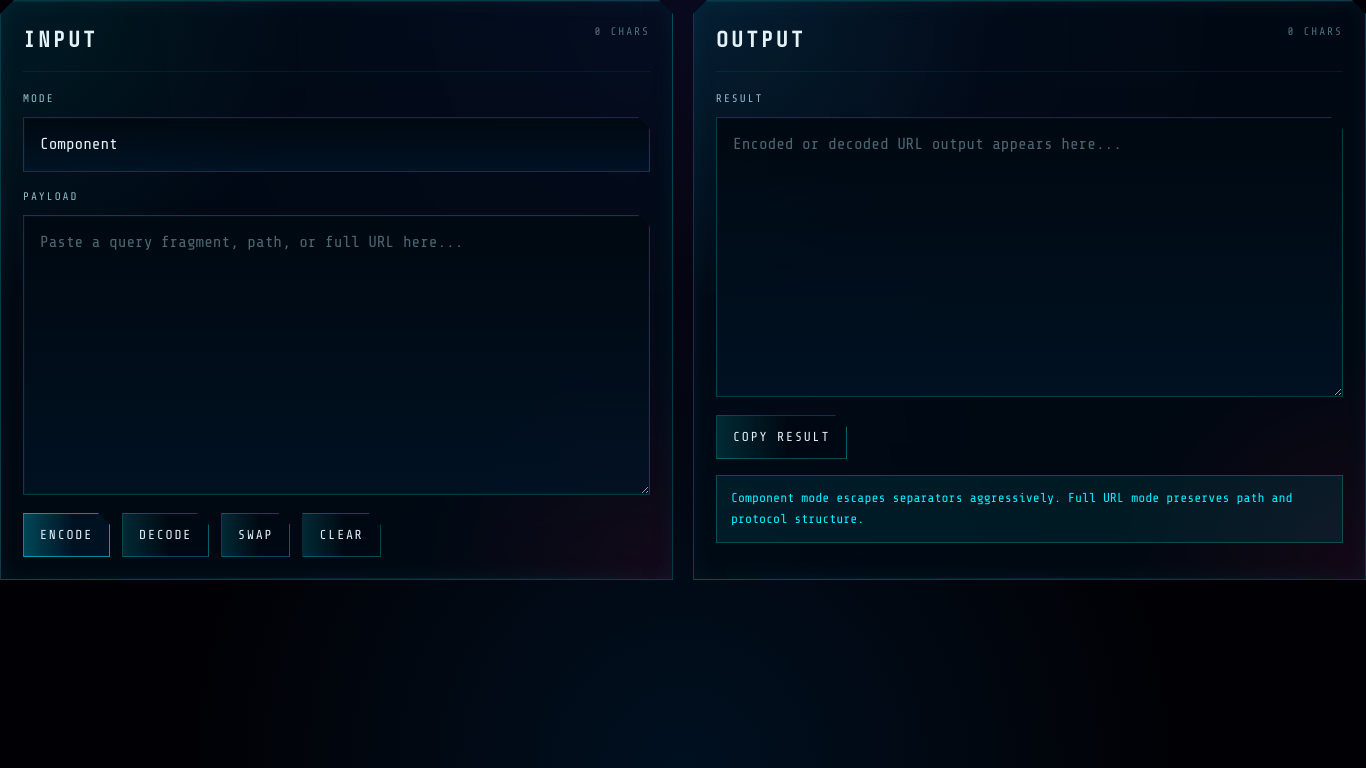
Test case: encoding and text tools › encodes URL payloads in both component and full-url mode
Type "a b" into the text box labelled "Payload".
click(336, 355); type("a b")  # box x1=23 y1=215 x2=650 y2=495
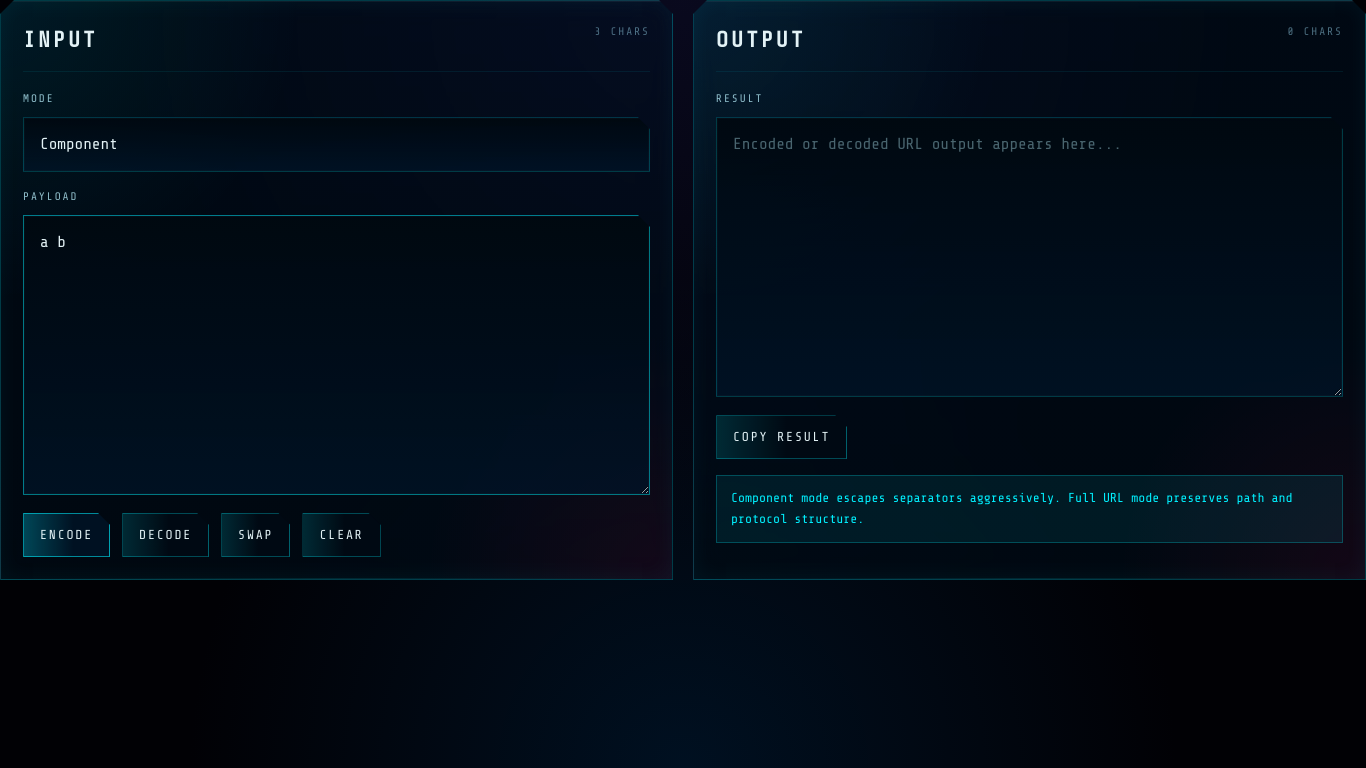
Click the button "Encode".
click(66, 535)  # box x1=23 y1=513 x2=110 y2=557
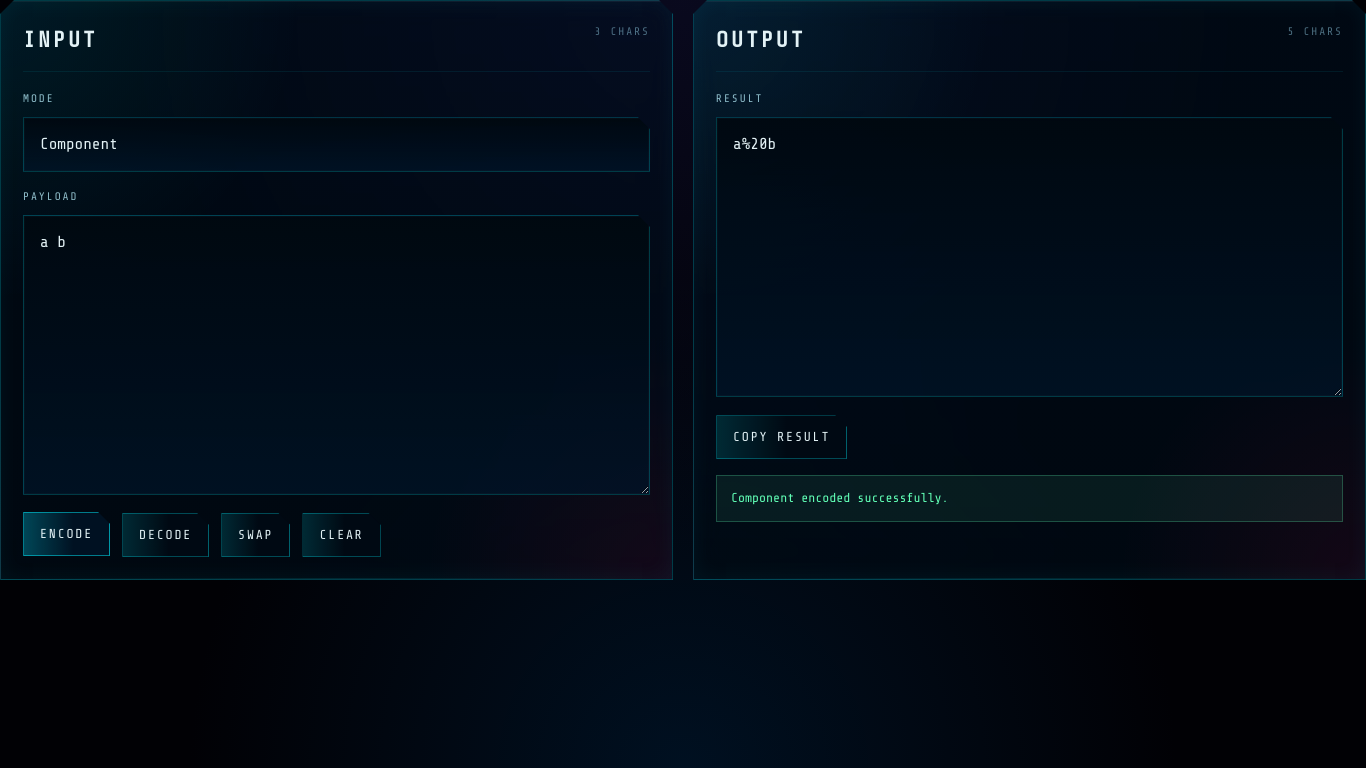
Now the text box labelled "Result" holds "a%20b", box x1=716 y1=117 x2=1343 y2=397
Select "Full URL" in the dropdown labelled "Mode" at (336, 144), box x1=23 y1=117 x2=650 y2=172
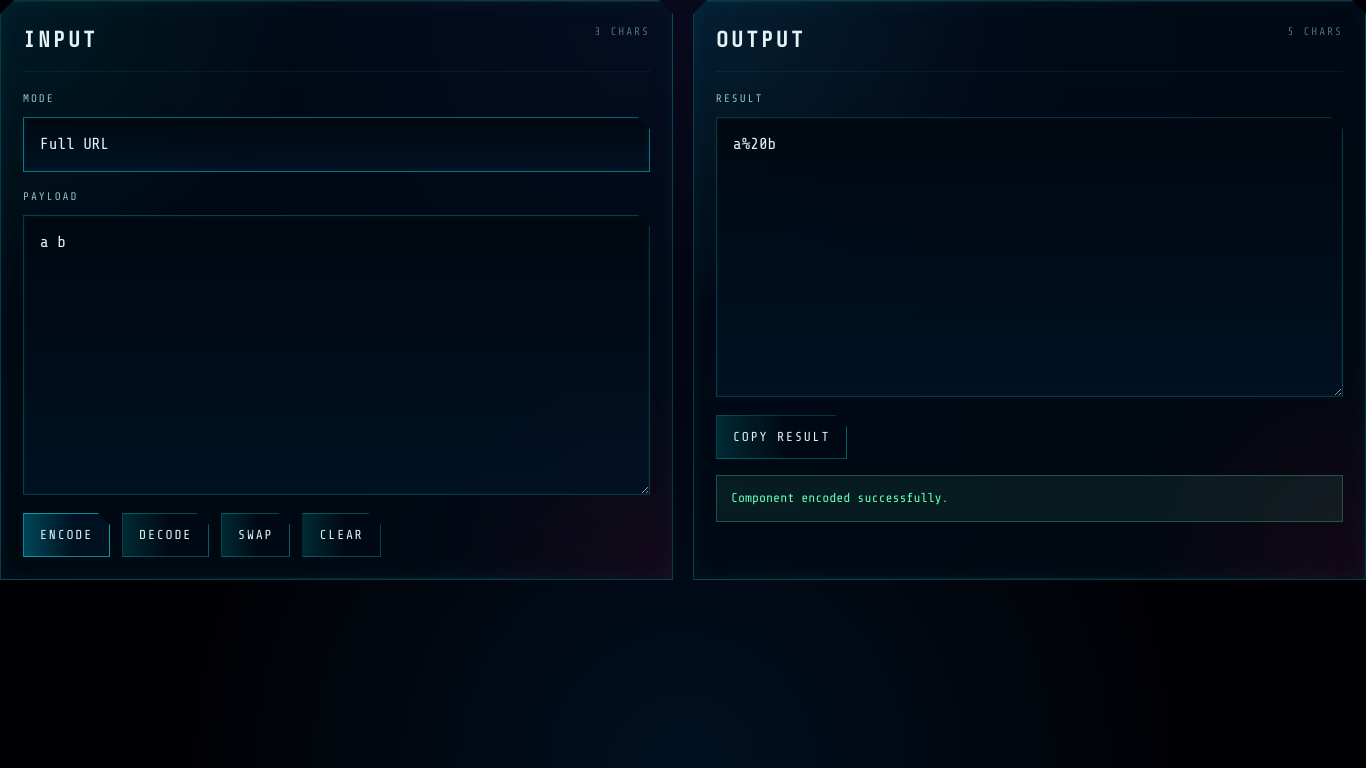
Replace the text in the text box labelled "Payload" with "https://a.com/a b?x=1&y=2" at (336, 355), box x1=23 y1=215 x2=650 y2=495
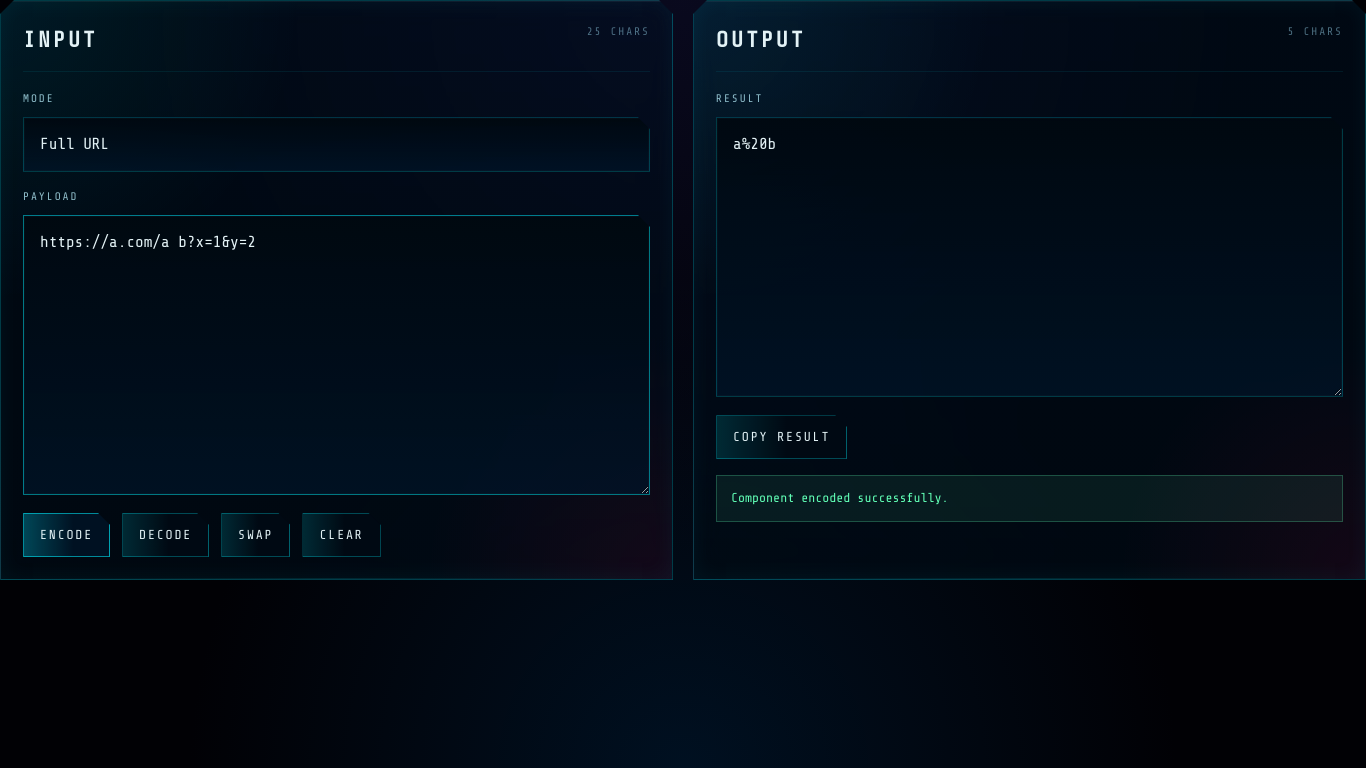
Click the button "Encode".
click(66, 535)  # box x1=23 y1=513 x2=110 y2=557
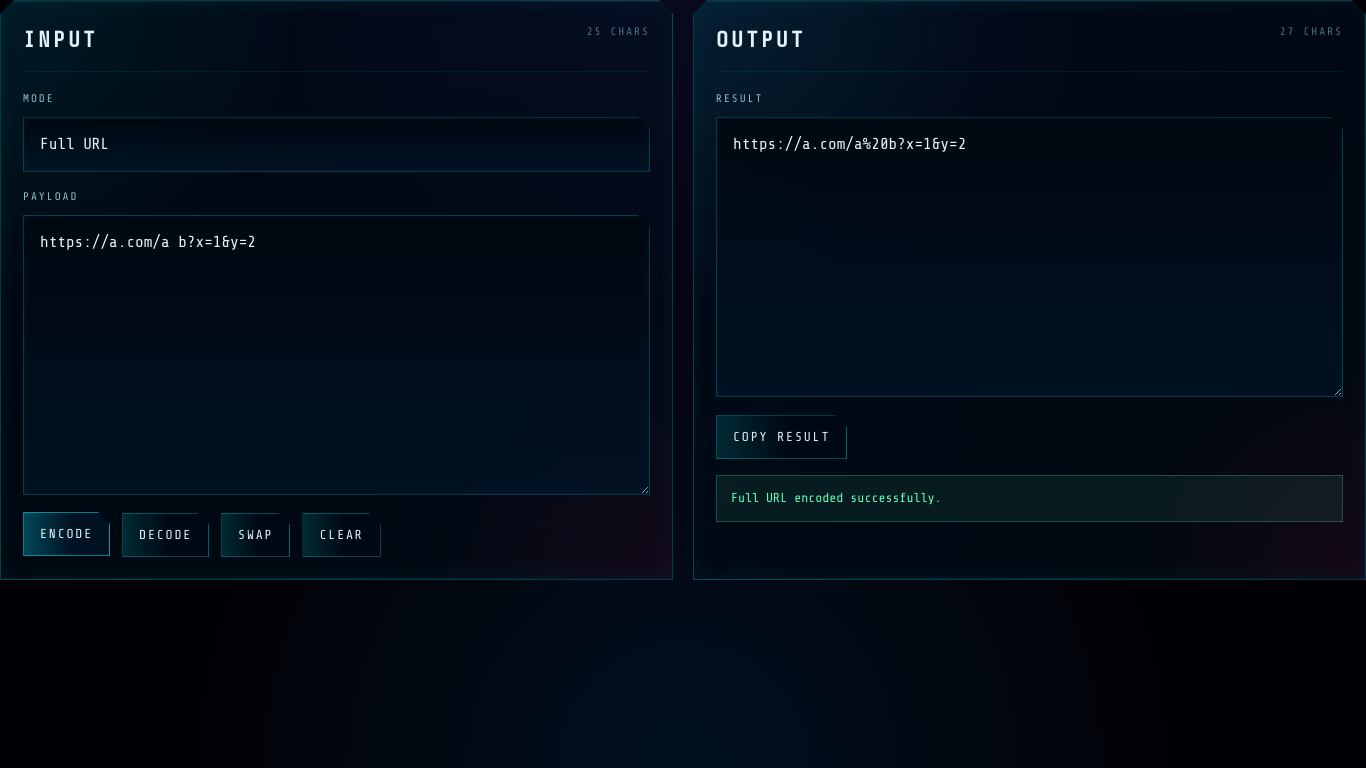
Now the text box labelled "Result" holds "https://a.com/a%20b?x=1&y=2", box x1=716 y1=117 x2=1343 y2=397
